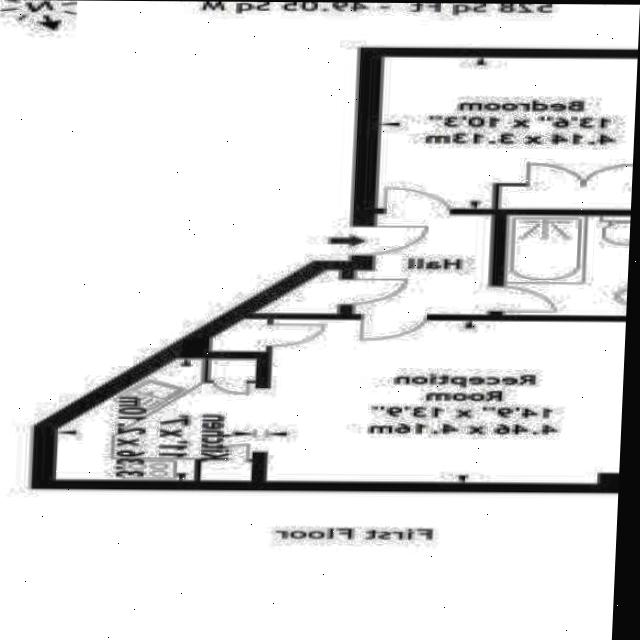room: (268, 320, 626, 483), (376, 57, 638, 211), (57, 359, 255, 482), (355, 214, 492, 315), (502, 215, 631, 316), (258, 269, 340, 314), (201, 460, 252, 481), (211, 359, 255, 380)
